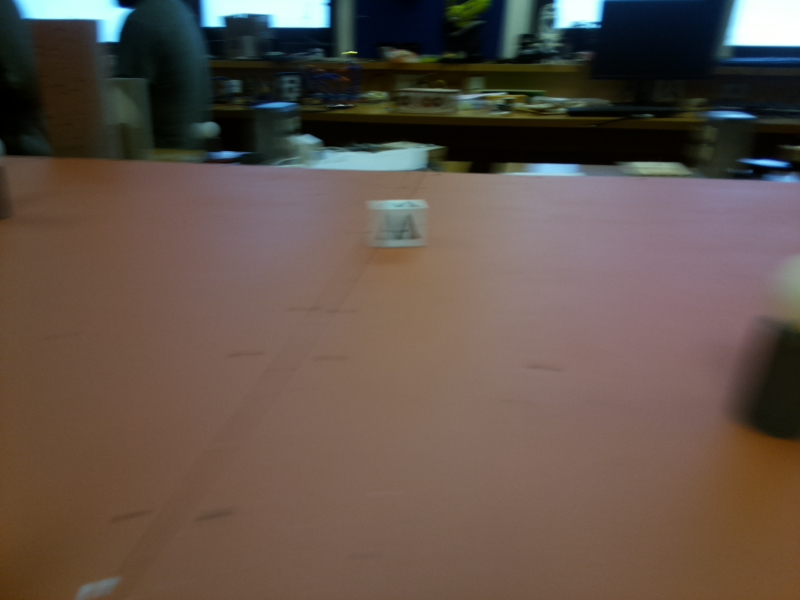blockA: (375, 199, 424, 249)
